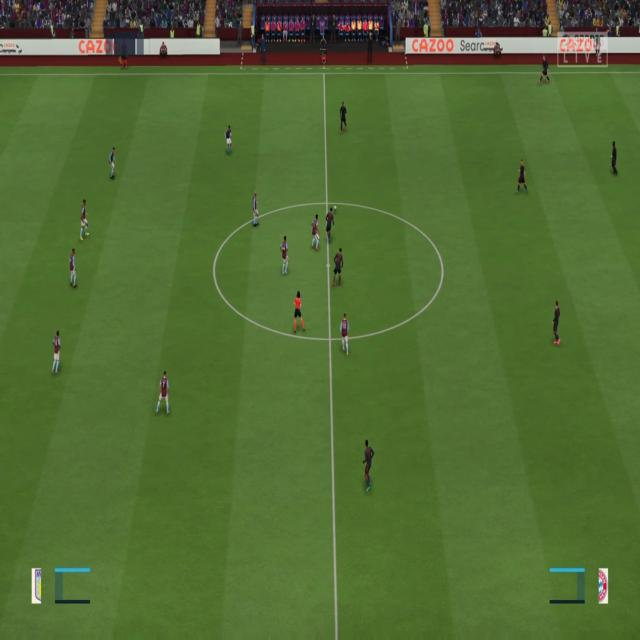Ball: (332, 205, 338, 212)
Referee: (292, 291, 305, 335)
Team-A: (362, 440, 374, 493), (516, 159, 528, 195), (550, 300, 560, 342), (333, 250, 344, 286), (609, 143, 619, 178), (339, 103, 349, 136), (540, 56, 552, 83), (326, 210, 336, 240)
Team-H: (156, 372, 172, 417), (50, 330, 63, 376), (68, 249, 80, 289), (279, 236, 290, 275), (309, 217, 321, 252), (340, 316, 350, 354), (80, 202, 90, 240), (252, 192, 262, 228), (109, 147, 119, 181), (226, 124, 233, 154)
